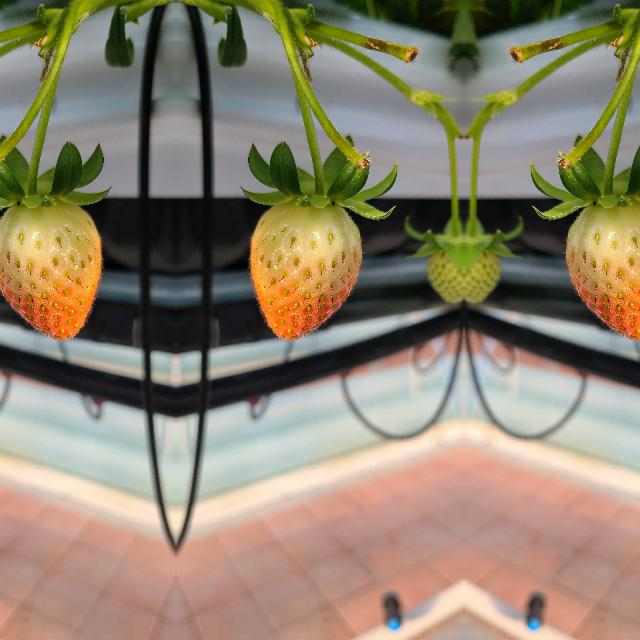Health_25: (412, 220, 462, 302), (464, 220, 514, 302)
Health_75: (249, 202, 359, 340), (0, 202, 101, 340), (567, 202, 640, 340)
